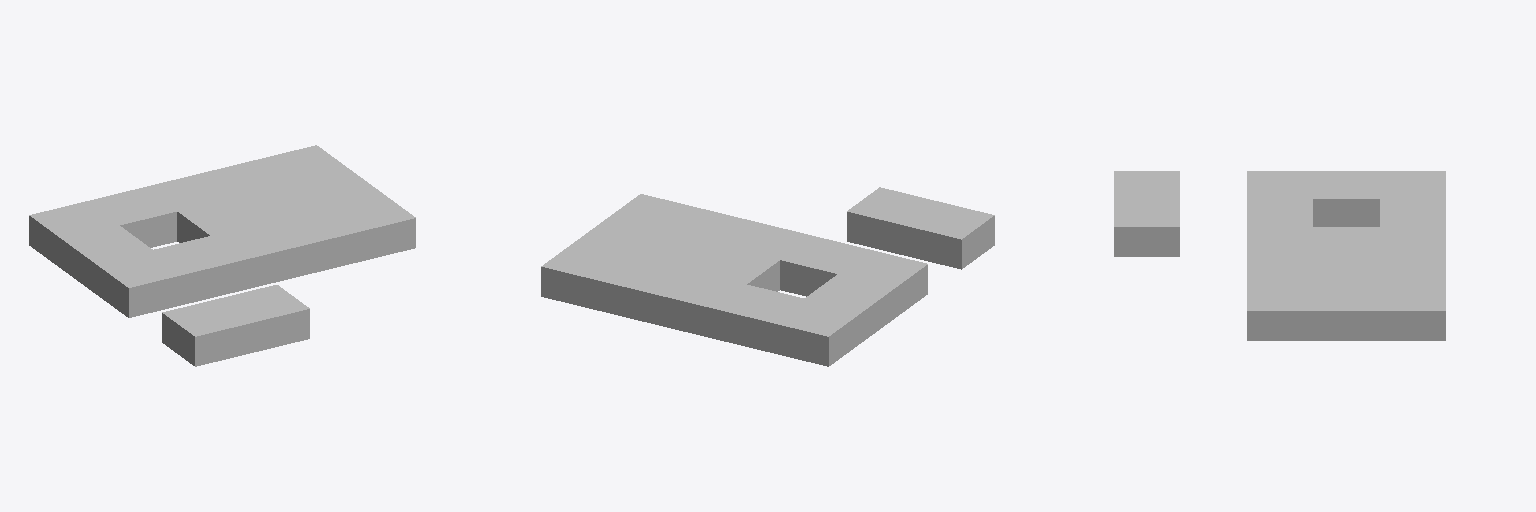
File: 39s_block.obj
3 views of the same model, side by side, from view 1: azimuth 30°, elevation 25°; view 2: azimuth 150°, elevation 25°; view 3: azimuth 270°, elevation 25° (orthographic).
Visible parts, largest first — view 1: block.0.0_block.3843, block.0.2_block.3844, block.1.2_block.3848, block.3.2_block.3854, block.1.0_block.3847, block.2.2_block.3851, block.4.2_block.3857, block.1.4_block.3850, block.0.3_block.3845, block.0.4_block.3846, block.2.3_block.3852, block.4.3_block.3858 (+4 smaller); view 2: block.0.0_block.3843, block.0.4_block.3846, block.4.4_block.3859, block.2.4_block.3853, block.1.4_block.3850, block.1.0_block.3847, block.3.4_block.3856, block.1.2_block.3848, block.0.2_block.3844, block.0.3_block.3845, block.2.3_block.3852, block.3.2_block.3854 (+4 smaller); view 3: block.4.3_block.3858, block.1.0_block.3847, block.4.2_block.3857, block.4.4_block.3859, block.0.3_block.3845, block.2.3_block.3852, block.3.3_block.3855, block.0.0_block.3843, block.0.2_block.3844, block.0.4_block.3846, block.1.2_block.3848, block.1.4_block.3850 (+4 smaller).
Boxes of the visible parts, x1=… form: block.0.0_block.3843: x1=162, y1=298, x2=252, y2=366; block.0.2_block.3844: x1=96, y1=250, x2=185, y2=317; block.1.2_block.3848: x1=154, y1=236, x2=243, y2=303; block.3.2_block.3854: x1=269, y1=208, x2=358, y2=275; block.1.0_block.3847: x1=220, y1=285, x2=309, y2=352; block.2.2_block.3851: x1=212, y1=222, x2=300, y2=289; block.4.2_block.3857: x1=327, y1=194, x2=415, y2=261; block.1.4_block.3850: x1=87, y1=187, x2=176, y2=247; block.0.3_block.3845: x1=62, y1=226, x2=152, y2=293; block.0.4_block.3846: x1=29, y1=201, x2=119, y2=268; block.2.3_block.3852: x1=177, y1=198, x2=267, y2=242; block.4.3_block.3858: x1=293, y1=169, x2=382, y2=207; block.0.0_block.3843: x1=904, y1=201, x2=994, y2=269; block.0.4_block.3846: x1=771, y1=298, x2=861, y2=366; block.4.4_block.3859: x1=541, y1=242, x2=631, y2=310; block.2.4_block.3853: x1=656, y1=270, x2=746, y2=338; block.1.4_block.3850: x1=714, y1=285, x2=803, y2=352; block.1.0_block.3847: x1=847, y1=187, x2=936, y2=254; block.3.4_block.3856: x1=599, y1=257, x2=688, y2=324; block.1.2_block.3848: x1=780, y1=236, x2=869, y2=296; block.0.2_block.3844: x1=839, y1=250, x2=927, y2=317; block.0.3_block.3845: x1=805, y1=274, x2=894, y2=341; block.2.3_block.3852: x1=690, y1=246, x2=779, y2=291; block.3.2_block.3854: x1=666, y1=208, x2=754, y2=245; block.4.3_block.3858: x1=1313, y1=283, x2=1379, y2=340; block.1.0_block.3847: x1=1114, y1=199, x2=1179, y2=256; block.4.2_block.3857: x1=1247, y1=283, x2=1312, y2=340; block.4.4_block.3859: x1=1380, y1=283, x2=1445, y2=340; block.0.3_block.3845: x1=1313, y1=171, x2=1379, y2=226; block.2.3_block.3852: x1=1313, y1=227, x2=1379, y2=254; block.3.3_block.3855: x1=1313, y1=255, x2=1379, y2=282; block.0.0_block.3843: x1=1114, y1=171, x2=1179, y2=198; block.0.2_block.3844: x1=1247, y1=171, x2=1312, y2=198; block.0.4_block.3846: x1=1380, y1=171, x2=1445, y2=198; block.1.2_block.3848: x1=1247, y1=199, x2=1312, y2=226; block.1.4_block.3850: x1=1380, y1=199, x2=1445, y2=226.
Size of the model in its own units: 10 by 1 by 10.